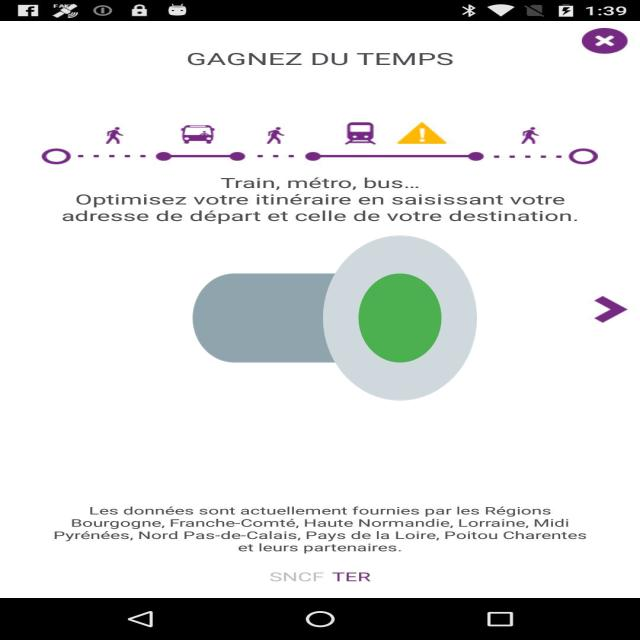social proof: (193, 165, 477, 471)
